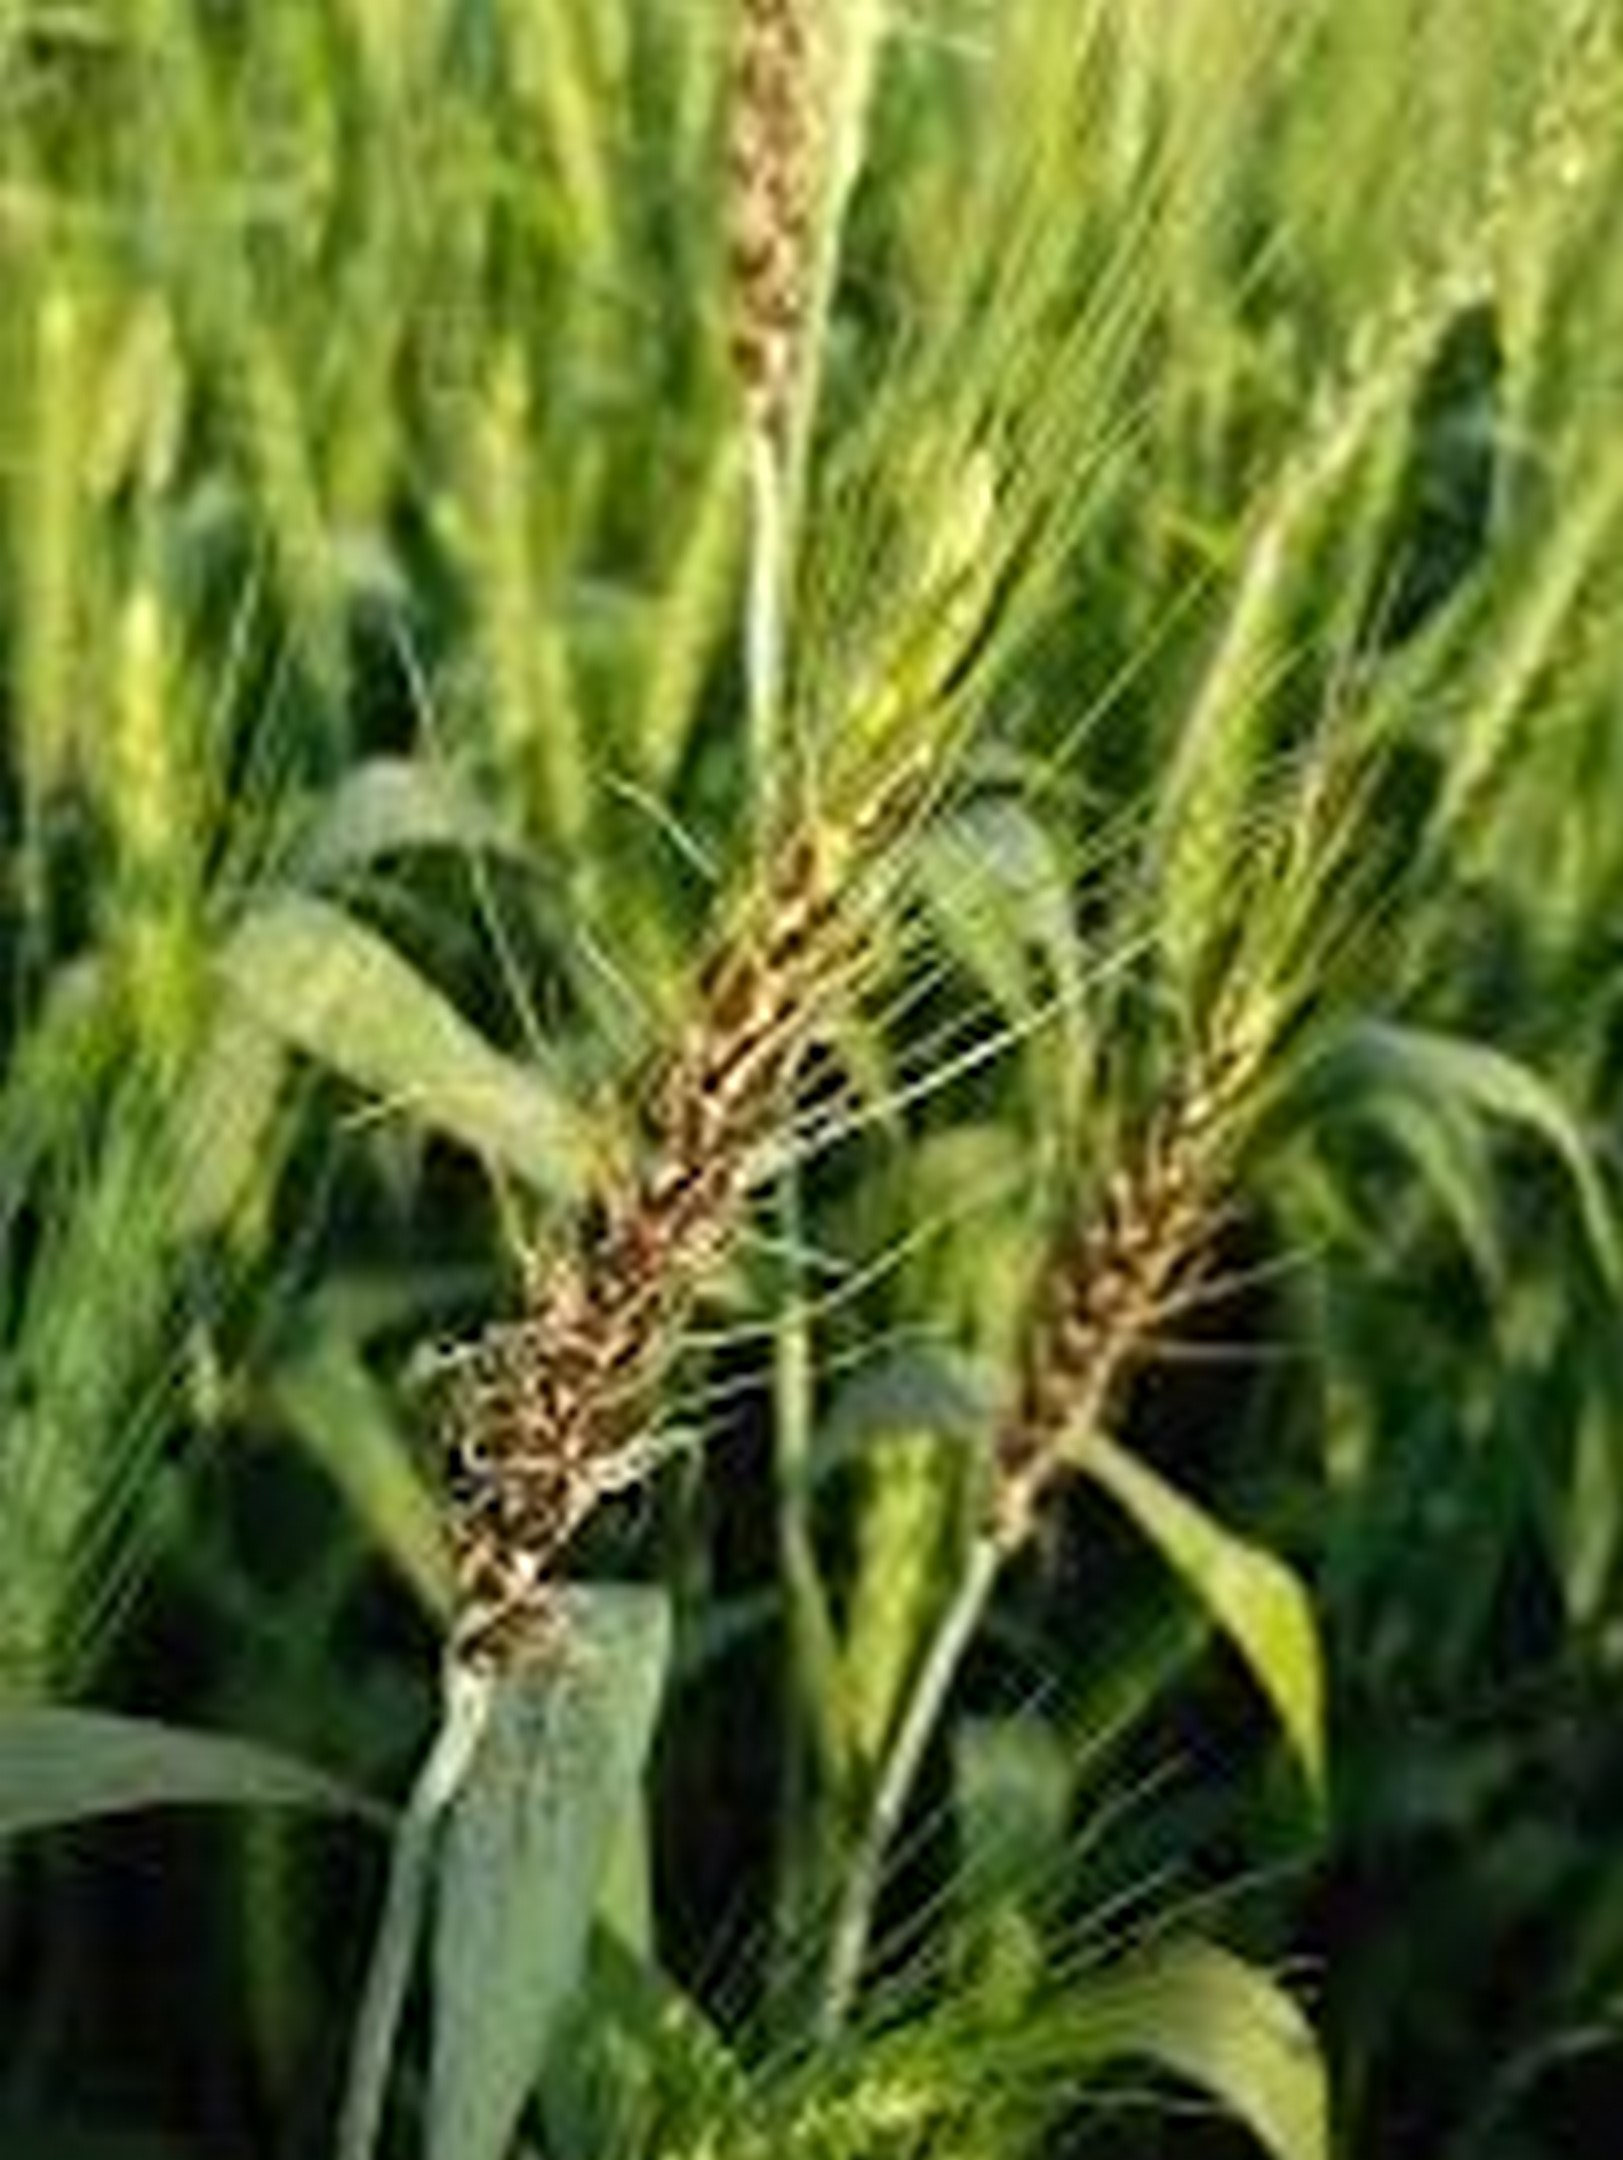Wheat Loose Smut: (384, 829, 944, 1609)
